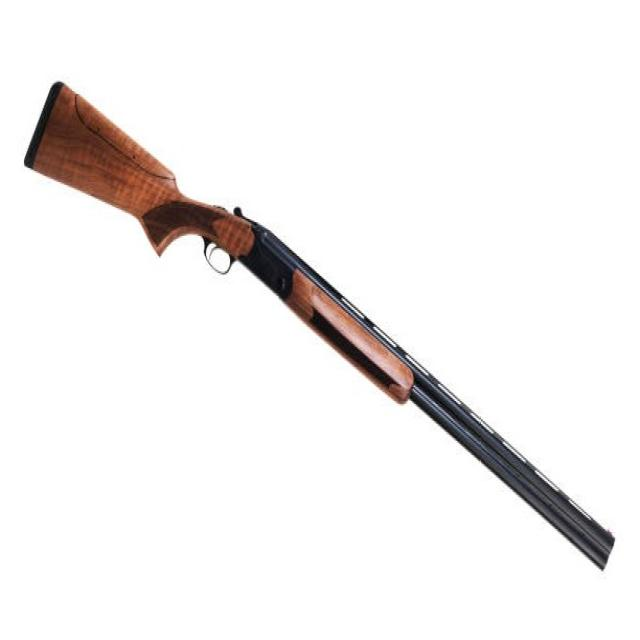rifle: (23, 79, 624, 584)
